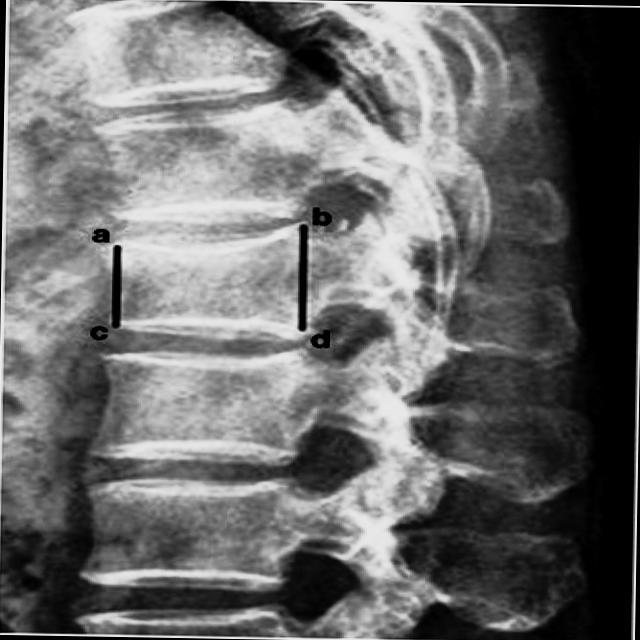Compression-Crush Fracutre: (88, 225, 334, 338)
